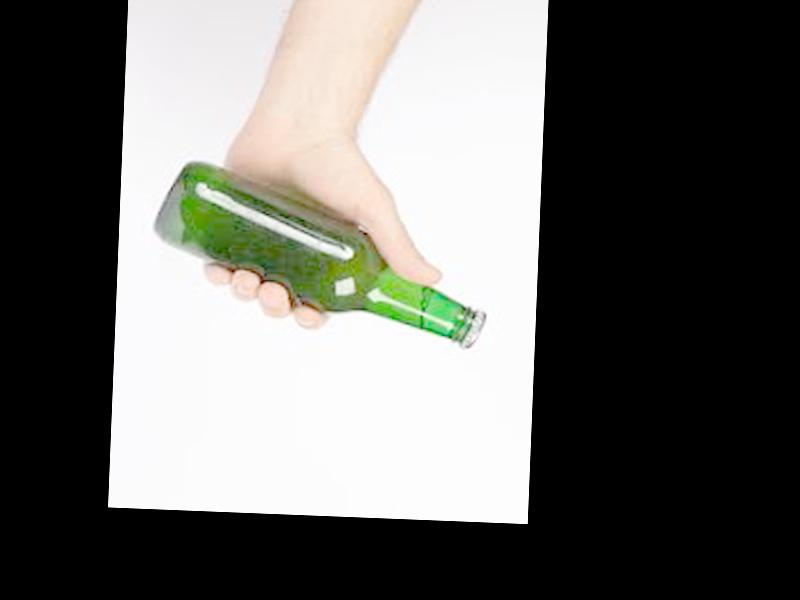Beer: (152, 159, 493, 348)
